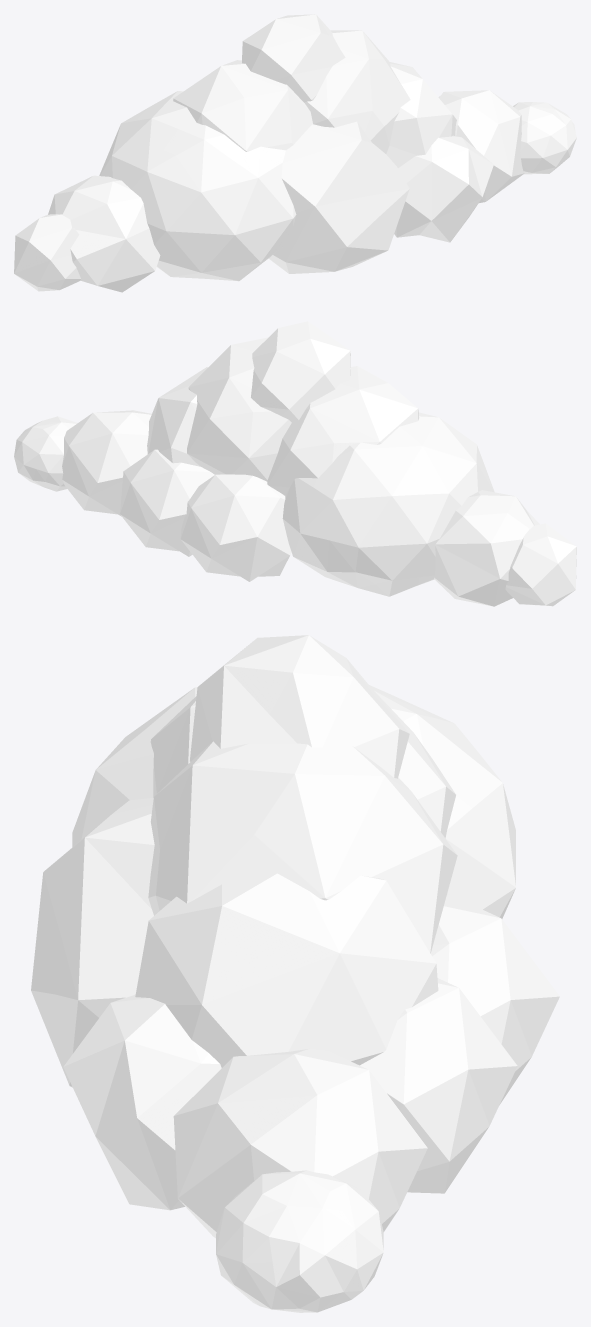
Rendered from cloud-triangle.glb.
The picture shows the model from 3 angles, top to bottom: view 1: azimuth 30°, elevation 25°; view 2: azimuth 150°, elevation 25°; view 3: azimuth 270°, elevation 25°; orthographic projection. The views are drawn at different scales.
Visible parts, largest first — view 1: cloud-triangle; view 2: cloud-triangle; view 3: cloud-triangle.
Boxes of the visible parts, box(x1,y1,x2,y2) form: cloud-triangle: box(14, 14, 576, 292); cloud-triangle: box(14, 321, 576, 606); cloud-triangle: box(31, 635, 559, 1312).
Size of the model in its own units: 9.04 by 3.6 by 3.71.
1 material, 1 textured.
